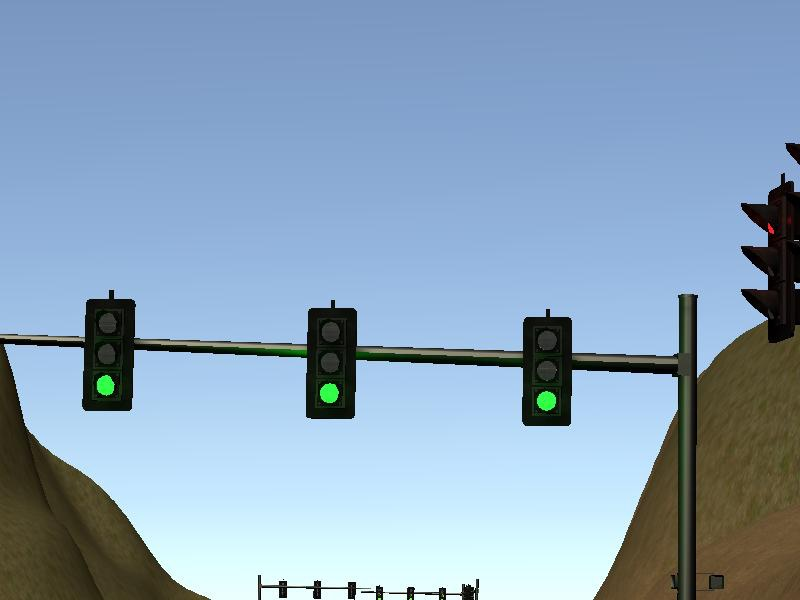Green: (80, 296, 138, 413), (302, 306, 360, 423), (517, 314, 575, 431)
